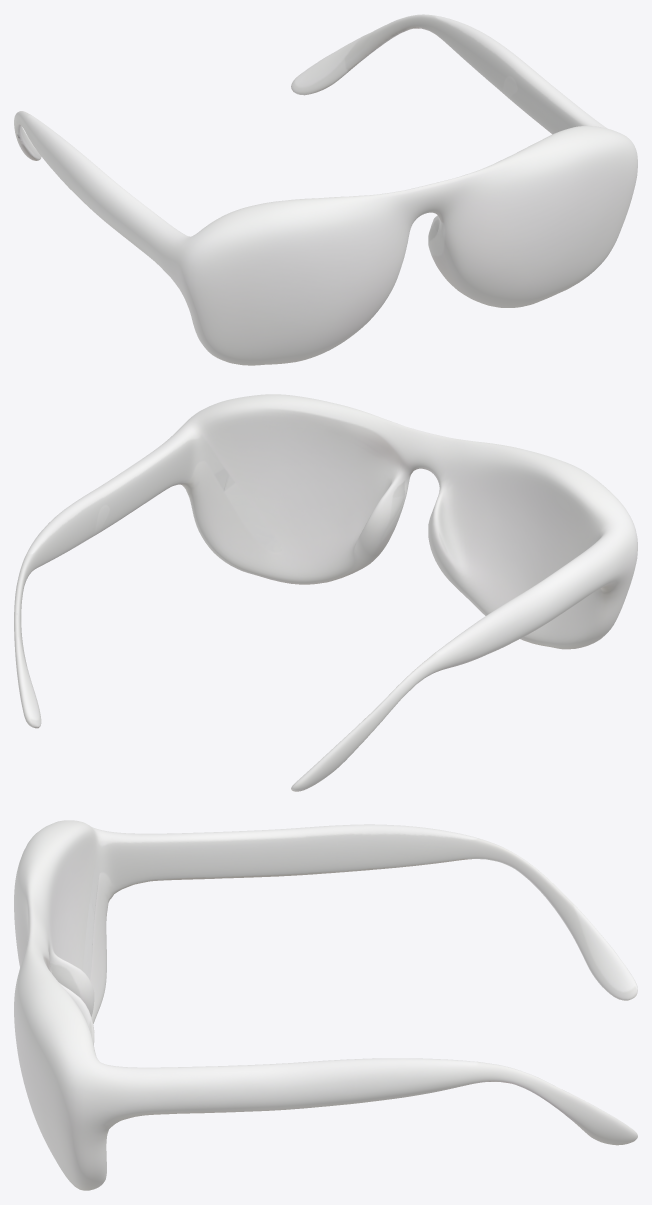
Rendered from base_basic_shaded.glb.
The picture shows the model from 3 angles, top to bottom: view 1: azimuth 30°, elevation 25°; view 2: azimuth 150°, elevation 25°; view 3: azimuth 270°, elevation 25°; orthographic projection. The views are drawn at different scales.
Visible parts, largest first — view 1: model; view 2: model; view 3: model.
Boxes of the visible parts, left/top/right/bottom form: model: left=14, top=14, right=637, bottom=365; model: left=14, top=394, right=637, bottom=791; model: left=14, top=820, right=637, bottom=1190.
Size of the model in its own units: 0.4165 by 0.15 by 0.438.
Materials: 1 (1 with a texture image).
